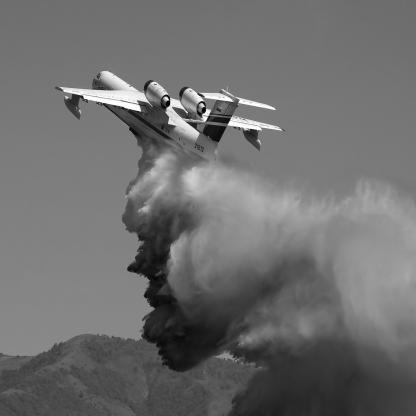Be200: (55, 71, 287, 169)
